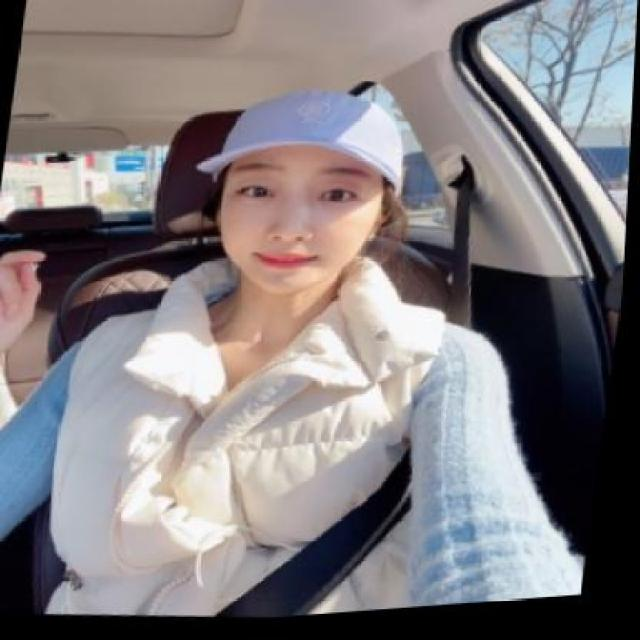hat: (199, 82, 421, 222)
